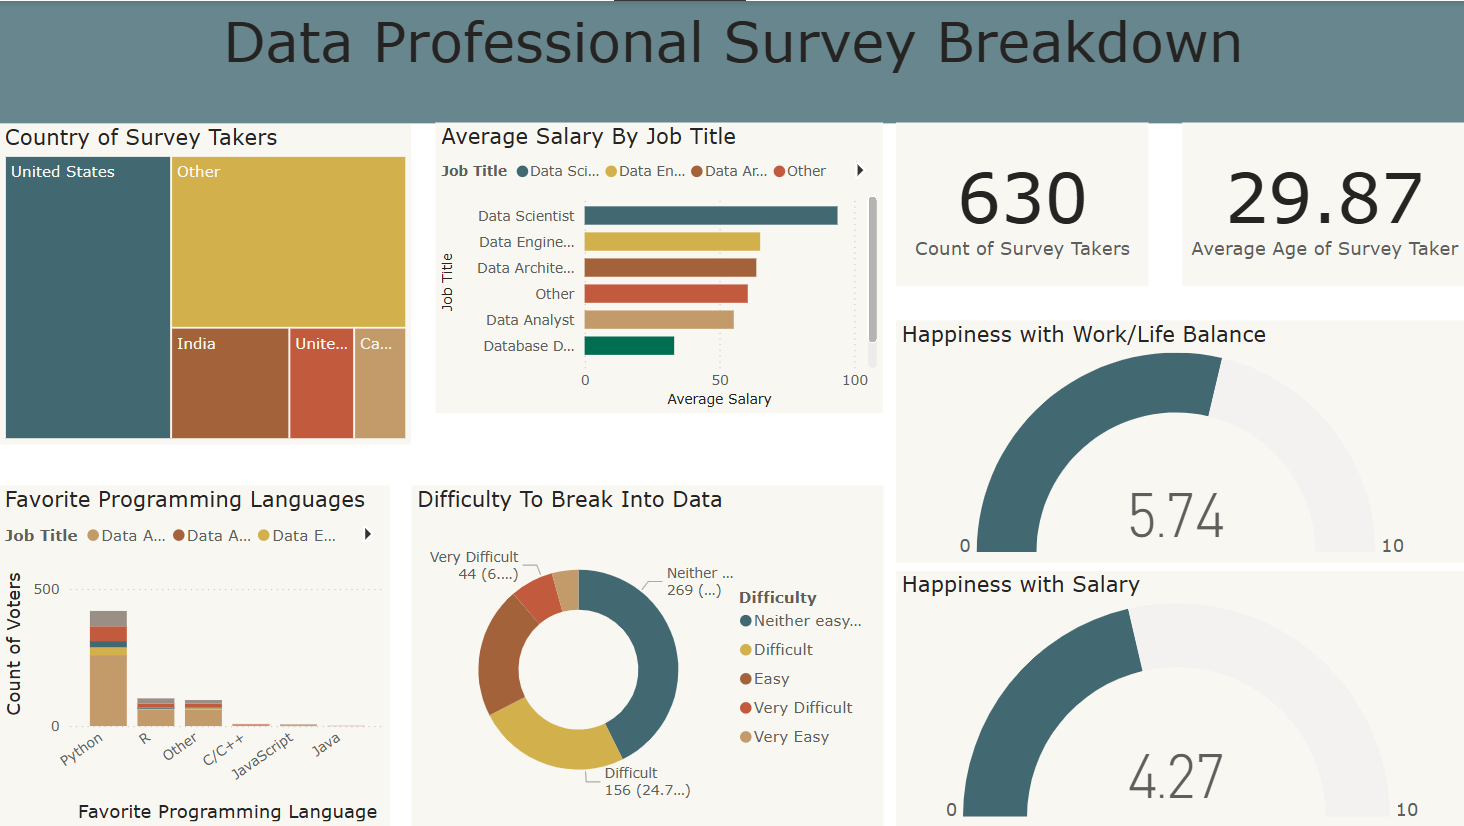

The page's visual inventory and layout, read from the dashboard file:
{"tool":"powerbi","page":{"name":"Page 1","canvas":[1280,720],"ordinal":0},"visuals":[{"type":"textbox","box":[0,0,1280.2,106.7],"z":0},{"type":"card","fields":{"Values":["Count(Data Professional Survey.Unique ID)"]},"box":[770.2,106.7,242.6,141.8],"z":1000},{"type":"card","fields":{"Values":["Avg(Data Professional Survey.Q10 - Current Age)"]},"box":[1012.8,106.7,266,141.8],"z":2000},{"type":"barChart","title":"Average Salary By Job Title","fields":{"Category":["Data Professional Survey.Q1 - Which Title Best Fits your Current Role?.1"],"Y":["Avg(Data Professional Survey.Average_Salary)"],"Series":["Data Professional Survey.Q1 - Which Title Best Fits your Current Role?.1"]},"box":[359.5,106.7,410.7,309.8],"z":3000},{"type":"columnChart","title":"Favorite Programming Languages","fields":{"Category":["Data Professional Survey.Q5 - Favorite Programming Language.1"],"Y":["CountNonNull(Data Professional Survey.Unique ID)"],"Series":["Data Professional Survey.Q1 - Which Title Best Fits your Current Role?.1"]},"box":[0,385.8,347.8,334.7],"z":4000},{"type":"treemap","title":"Country of Survey Takers","fields":{"Group":["Data Professional Survey.Q11 - Which Country do you live in?.1"],"Values":["CountNonNull(Data Professional Survey.Q11 - Which Country do you live in?.1)"]},"box":[0,106.7,359.5,279.1],"z":5000},{"type":"gauge","title":"Happiness with Salary","fields":{"Y":["Avg(Data Professional Survey.Q6 - How Happy are you in your Current Position with the following? (Salary))"],"MinValue":["Min(Data Professional Survey.Q6 - How Happy are you in your Current Position with the following? (Salary))"],"MaxValue":["Max(Data Professional Survey.Q6 - How Happy are you in your Current Position with the following? (Salary))1"]},"box":[781.9,496.9,498.4,223.6],"z":6000},{"type":"gauge","title":"Happiness with Work/Life Balance","fields":{"Y":["Avg(Data Professional Survey.Q6 - How Happy are you in your Current Position with the following? (Work/Life Balance))"],"MinValue":["Min(Data Professional Survey.Q6 - How Happy are you in your Current Position with the following? (Work/Life Balance))"],"MaxValue":["Max(Data Professional Survey.Q6 - How Happy are you in your Current Position with the following? (Work/Life Balance))1"]},"box":[771.7,279.1,508.6,211.9],"z":7000},{"type":"donutChart","title":"Difficulty To Break Into Data","fields":{"Y":["CountNonNull(Data Professional Survey.Q7 - How difficult was it for you to break into Data?)"],"Category":["Data Professional Survey.Q7 - How difficult was it for you to break into Data?"]},"box":[359.5,416.5,410.7,298.1],"z":8000}]}

Visuals, with their boxes in screenshot pixels (x1, y1, x2, y2), scaled from the page's 1280x720 canvas onto the 1464x826 screenshot:
textbox: [left=0, top=0, right=1463, bottom=122]
card - Count(Data Professional Survey.Unique ID): [left=881, top=122, right=1158, bottom=285]
card - Avg(Data Professional Survey.Q10 - Current Age): [left=1158, top=122, right=1463, bottom=285]
"Average Salary By Job Title" barChart: [left=411, top=122, right=881, bottom=478]
"Favorite Programming Languages" columnChart: [left=0, top=443, right=398, bottom=825]
"Country of Survey Takers" treemap: [left=0, top=122, right=411, bottom=443]
"Happiness with Salary" gauge: [left=894, top=570, right=1463, bottom=825]
"Happiness with Work/Life Balance" gauge: [left=883, top=320, right=1463, bottom=563]
"Difficulty To Break Into Data" donutChart: [left=411, top=478, right=881, bottom=820]
